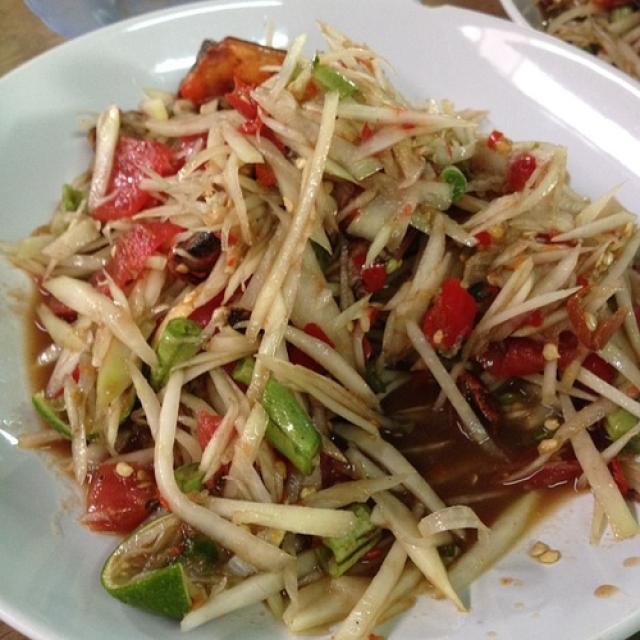蔬菜料理: (23, 28, 621, 608)
